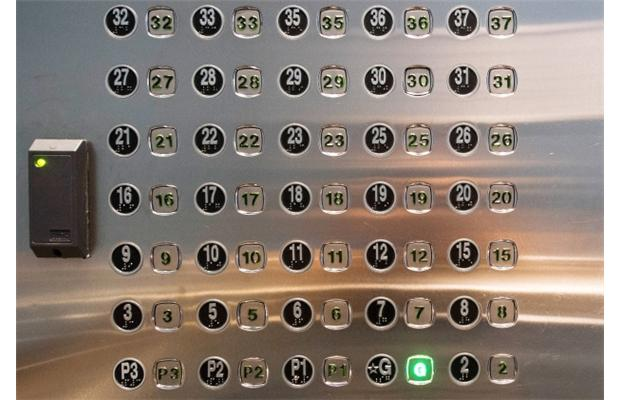button: (106, 296, 186, 335), (274, 2, 350, 43), (188, 2, 265, 41), (446, 236, 521, 276), (446, 293, 521, 333), (102, 3, 180, 41), (446, 349, 520, 389), (360, 3, 435, 42), (445, 3, 520, 42), (191, 121, 266, 160), (363, 294, 438, 333), (103, 62, 179, 100), (275, 62, 351, 100), (105, 122, 181, 160), (361, 237, 437, 275), (279, 353, 355, 391), (194, 238, 268, 277), (279, 295, 353, 334), (110, 355, 188, 392), (190, 62, 265, 100), (361, 62, 436, 100), (192, 180, 267, 218), (277, 180, 352, 218), (444, 61, 521, 98), (361, 179, 435, 217), (445, 179, 521, 216), (278, 238, 352, 276), (362, 121, 434, 160), (364, 351, 436, 390), (106, 181, 181, 218), (446, 121, 519, 159), (277, 121, 351, 158), (108, 240, 184, 276), (194, 297, 270, 333), (195, 354, 270, 390)
